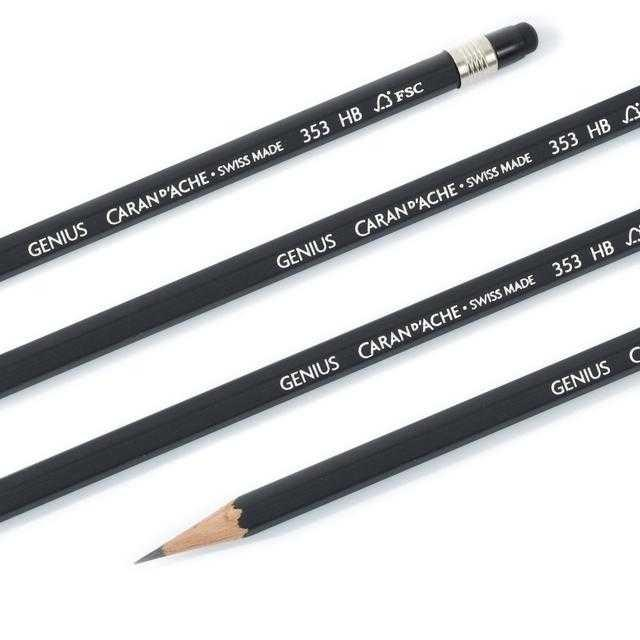pencil: (0, 193, 639, 559), (0, 66, 639, 427), (0, 0, 558, 314), (115, 283, 639, 598)
